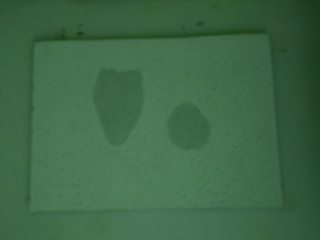Water_detected: (98, 74, 141, 136), (176, 102, 214, 141)
